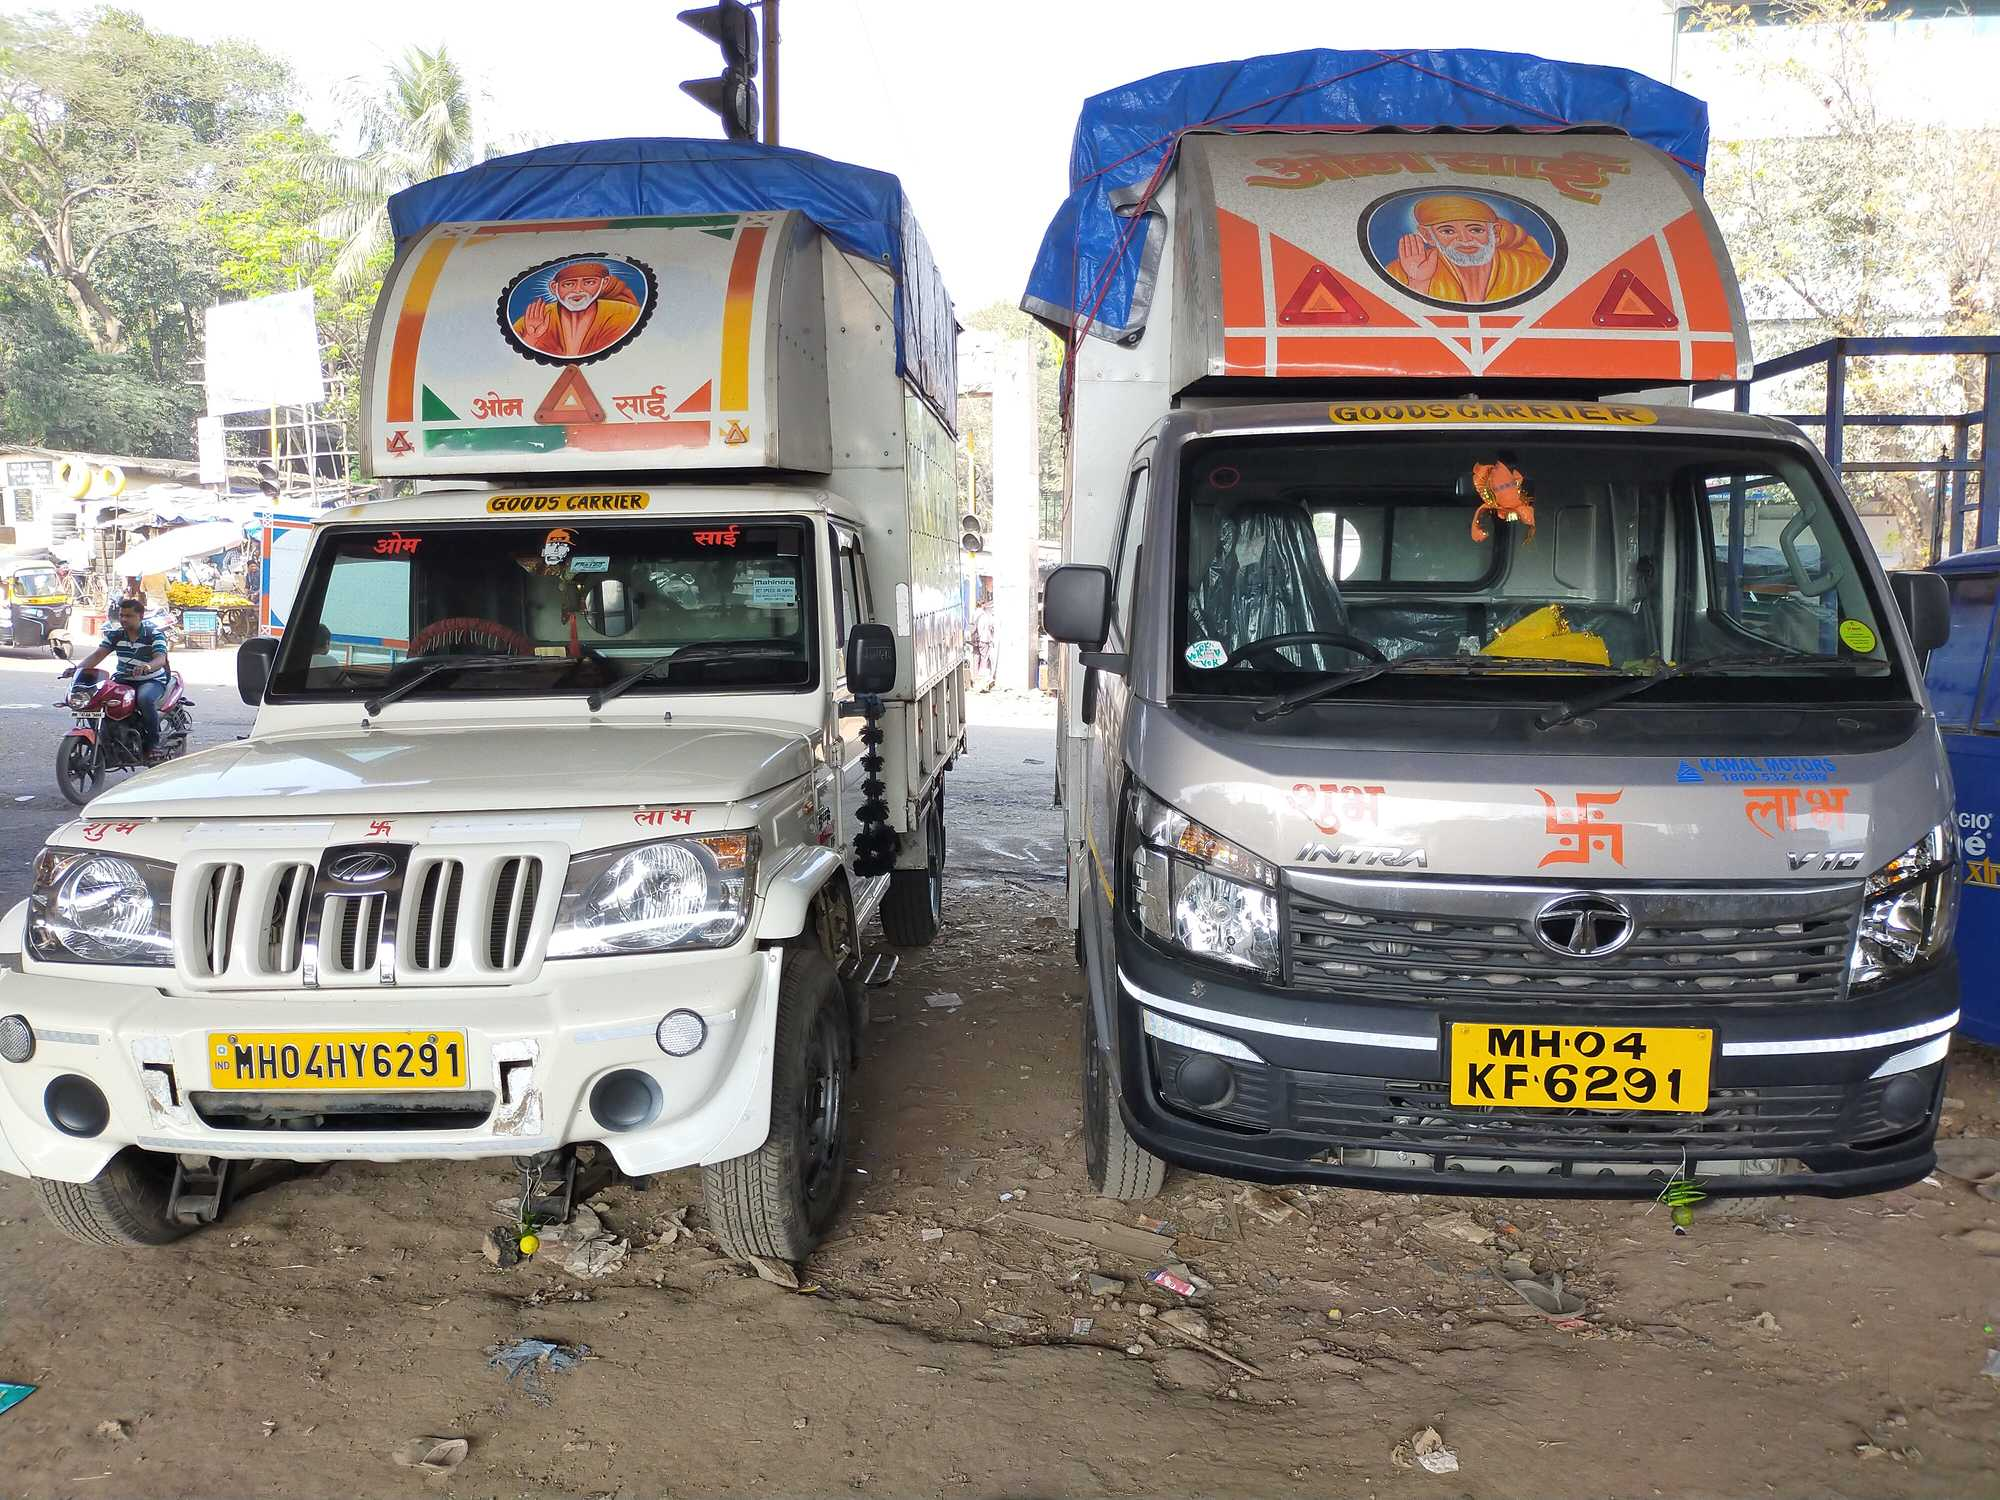doublelinenumberplate: (1448, 1010, 1714, 1124)
numberplate: (197, 1021, 471, 1090)
